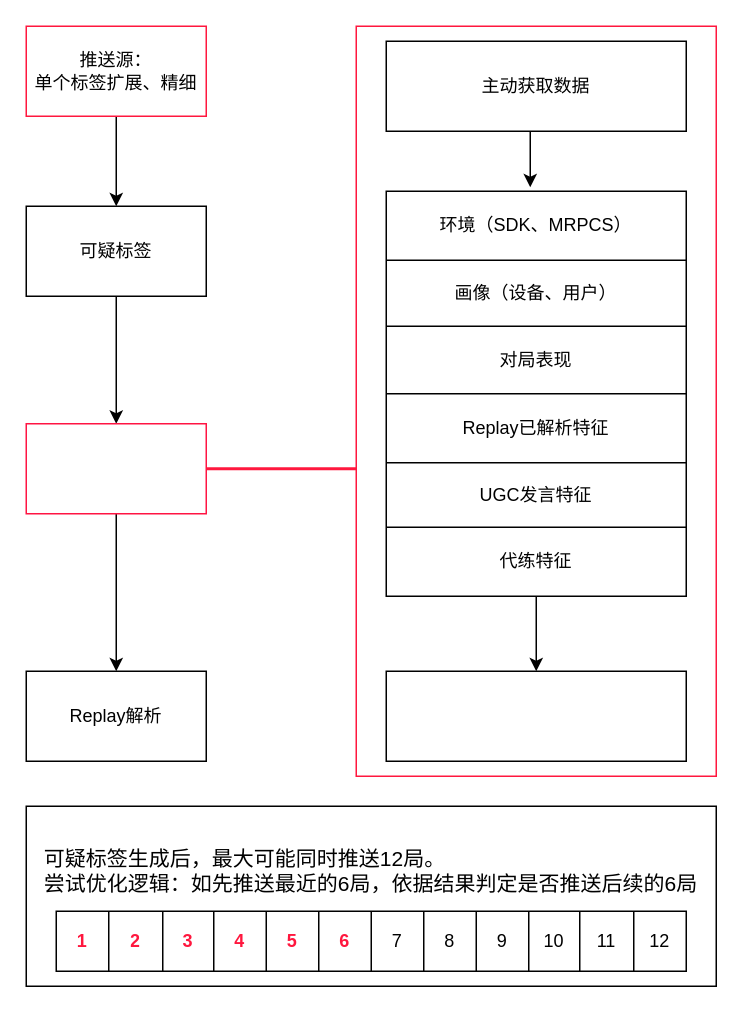
This 743x1013 diagram has some shape labels left out. Each missing label, with the centre of its shape:
"推送筛选" goes at [115,468].
"模型训练、预测、过滤" goes at [535,715].
